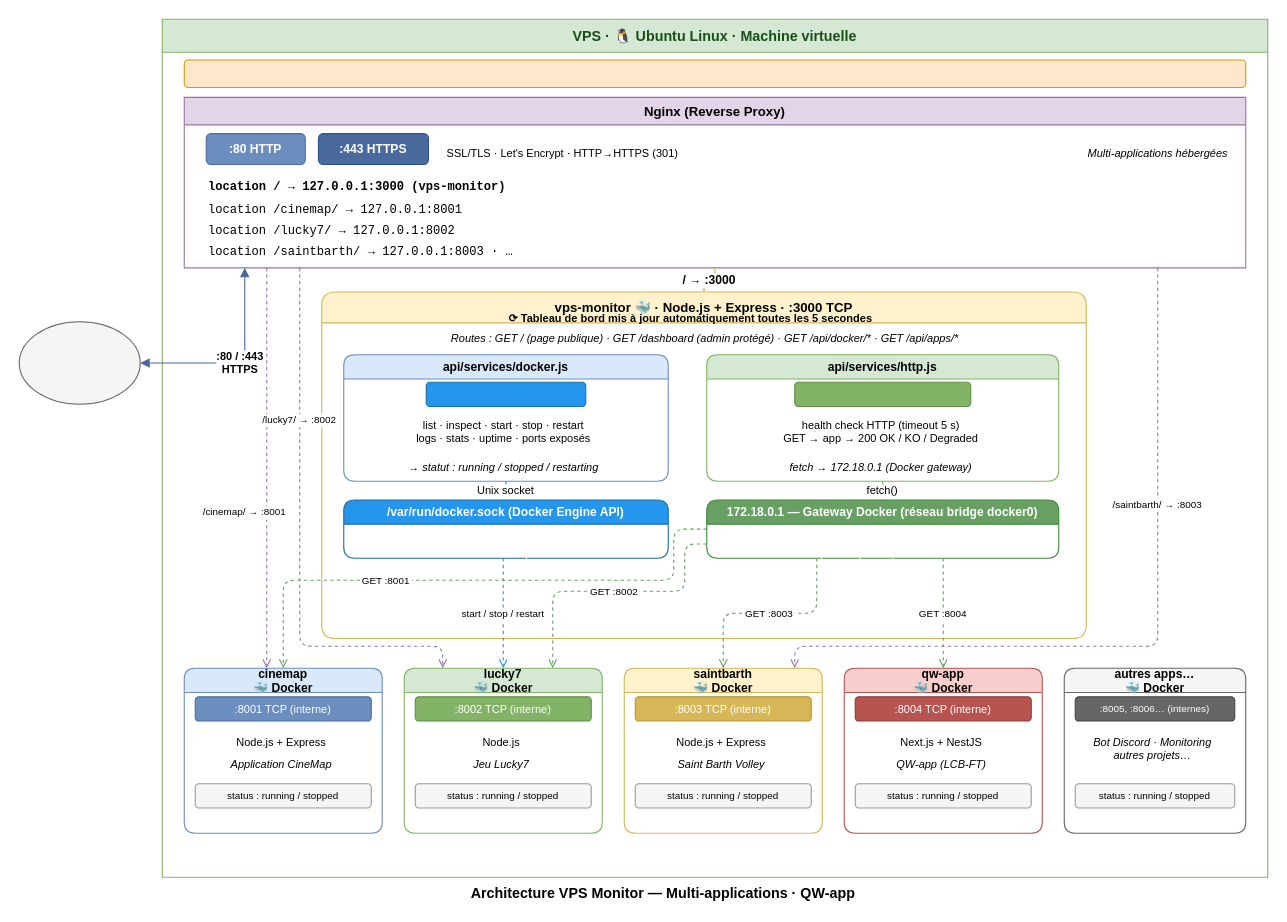
Image size: 1287x922. Some labels were removed from this diagram. Here are the shapes that lost their labels. From the top down, the centre of each, then its label:
pixel 714 73: 🔥 UFW — ports exposés : :22 TCP (SSH) · :80 TCP (HTTP) · :443 TCP (HTTPS)
pixel 79 362: Internet (Navigateur)
pixel 505 393: Dockerode (npm)
pixel 882 393: fetch() (natif Node.js)
